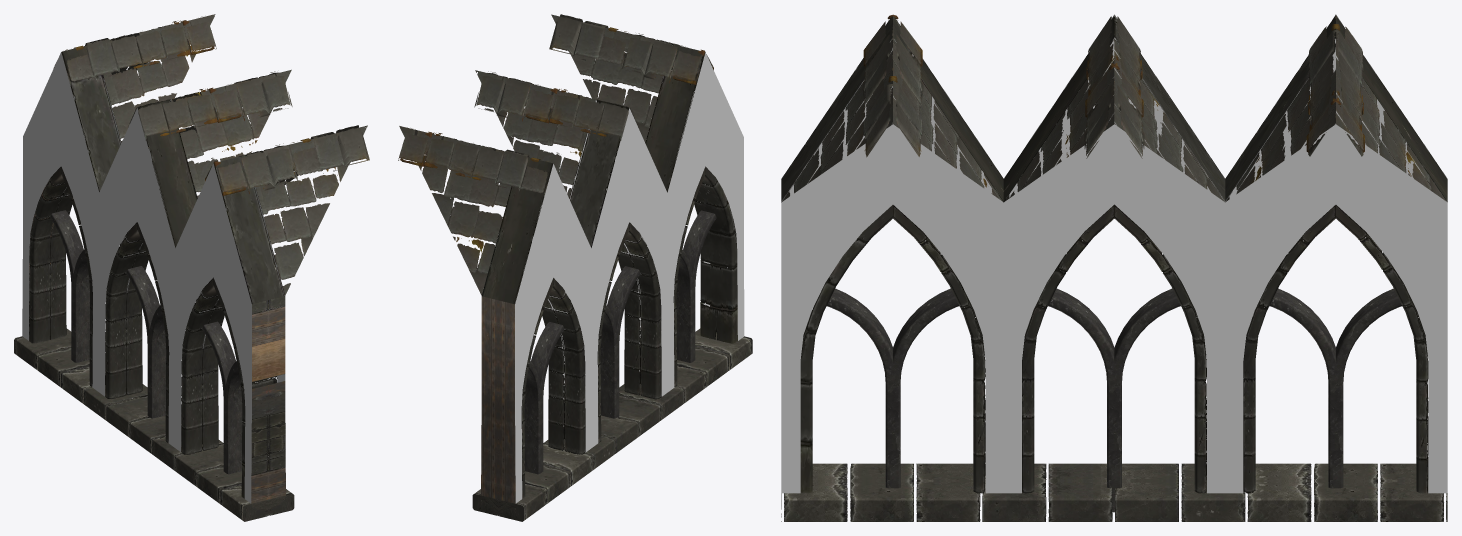
3 renders of one model, left to right at view 1: azimuth 30°, elevation 25°; view 2: azimuth 150°, elevation 25°; view 3: azimuth 270°, elevation 25°, orthographic. The views are drawn at different scales.
Visible parts, largest first — view 1: SM_Greathall_Wall_Top_8x6_01_LOD0; view 2: SM_Greathall_Wall_Top_8x6_01_LOD0; view 3: SM_Greathall_Wall_Top_8x6_01_LOD0.
Part boxes in pixels (x1,y1,x2,y2): SM_Greathall_Wall_Top_8x6_01_LOD0: (14, 14, 369, 521); SM_Greathall_Wall_Top_8x6_01_LOD0: (398, 14, 752, 521); SM_Greathall_Wall_Top_8x6_01_LOD0: (781, 14, 1447, 521).
Bounding box in the file's own units: 2.97 × 5.74 × 7.2.
Materials: 5 (4 with a texture image).
